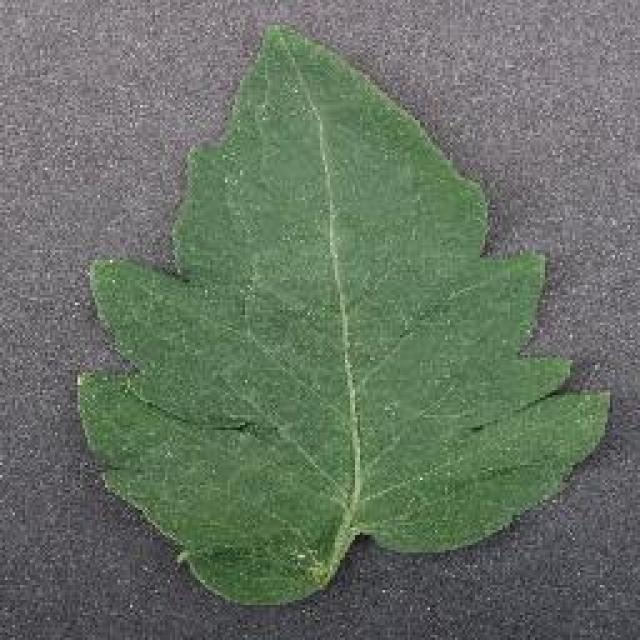healthy: (77, 19, 614, 609)
